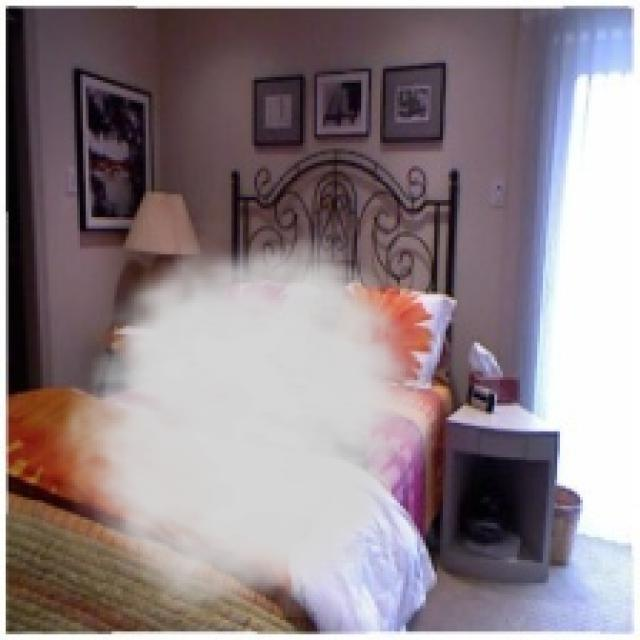Smoke: (46, 220, 452, 617)
